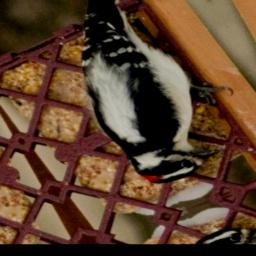Woodpecker: (28, 0, 256, 191)
